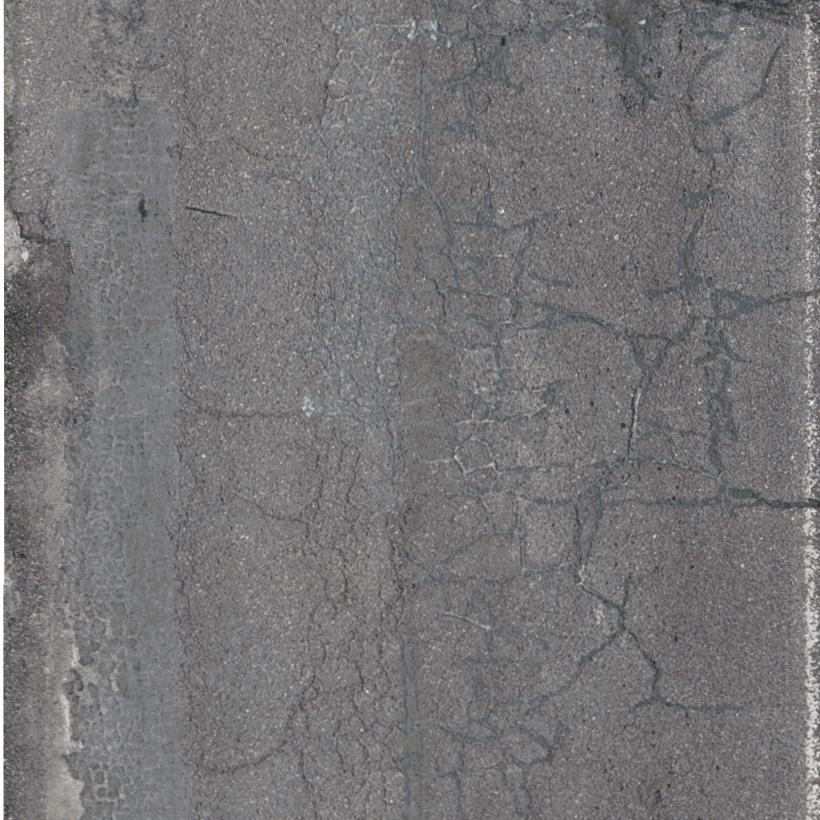GRIETA: (176, 386, 283, 423), (184, 115, 268, 160), (220, 480, 294, 522), (181, 747, 278, 777), (686, 181, 713, 246), (740, 489, 819, 510), (573, 313, 627, 342), (756, 289, 819, 309), (184, 206, 234, 218)
PIEL DE COCODRILO: (267, 0, 668, 819), (50, 58, 169, 819), (546, 0, 807, 188), (590, 237, 758, 515), (4, 166, 54, 288)
